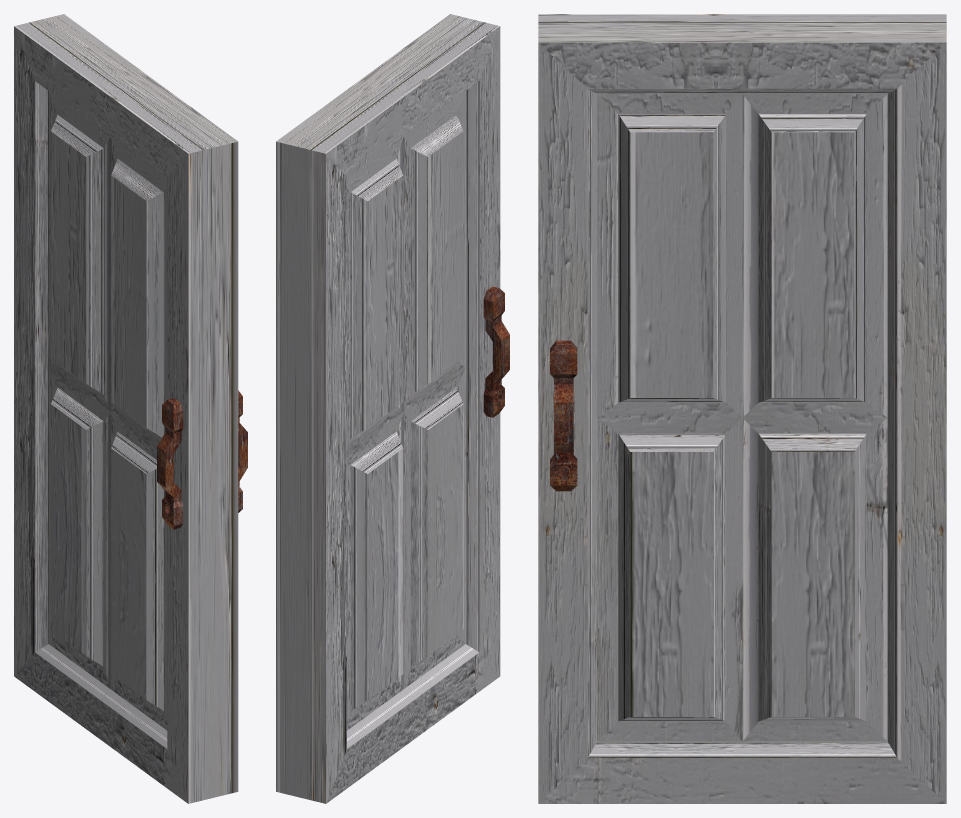
File: Small_door.glb
3 renders of one model, left to right at view 1: azimuth 30°, elevation 25°; view 2: azimuth 150°, elevation 25°; view 3: azimuth 270°, elevation 25°, orthographic. The views are drawn at different scales.
Visible parts, largest first — view 1: Door.001; view 2: Door.001; view 3: Door.001.
Part boxes in pixels (box(x1,y1,x2,y2)): Door.001: box(14, 14, 247, 803); Door.001: box(276, 14, 509, 803); Door.001: box(538, 14, 946, 803).
Bounding box in the file's own units: 2.18 × 16.39 × 7.97.
Materials: 3 (3 with a texture image).
